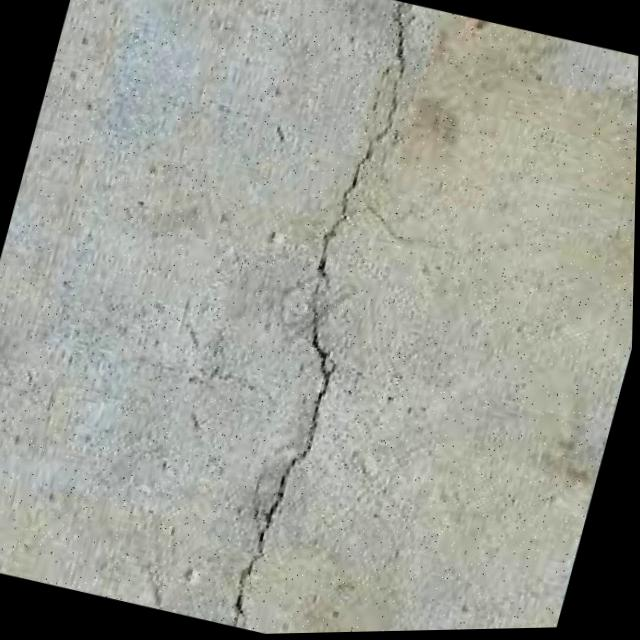Crack: (200, 0, 452, 636)
